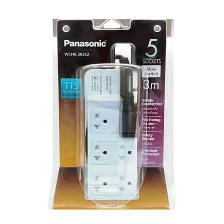book: (46, 14, 177, 213)
three_eye_plug: (78, 65, 141, 203)
